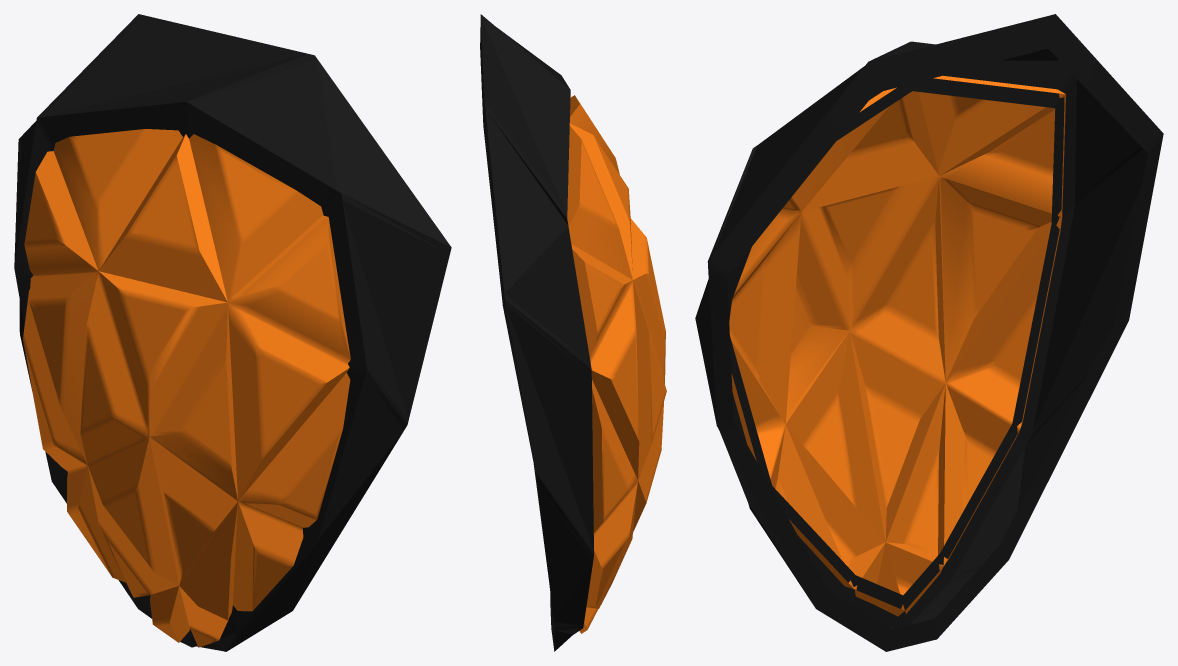
3 views of the same model, side by side, from view 1: azimuth 30°, elevation 25°; view 2: azimuth 150°, elevation 25°; view 3: azimuth 270°, elevation 25° (orthographic). The views are drawn at different scales.
Parts seen in each view (by area): view 1: shield_001, shield_hand_decor; view 2: shield_hand_decor, shield_001; view 3: shield_001, shield_hand_decor.
Part boxes in pixels (box(x1,y1,x2,y2)): shield_001: box(23, 129, 350, 647); shield_hand_decor: box(14, 14, 451, 651); shield_hand_decor: box(480, 14, 593, 651); shield_001: box(567, 95, 666, 633); shield_001: box(729, 75, 1065, 616); shield_hand_decor: box(695, 14, 1163, 651).
Bounding box in the file's own units: 42.97 × 59.49 × 88.72.
